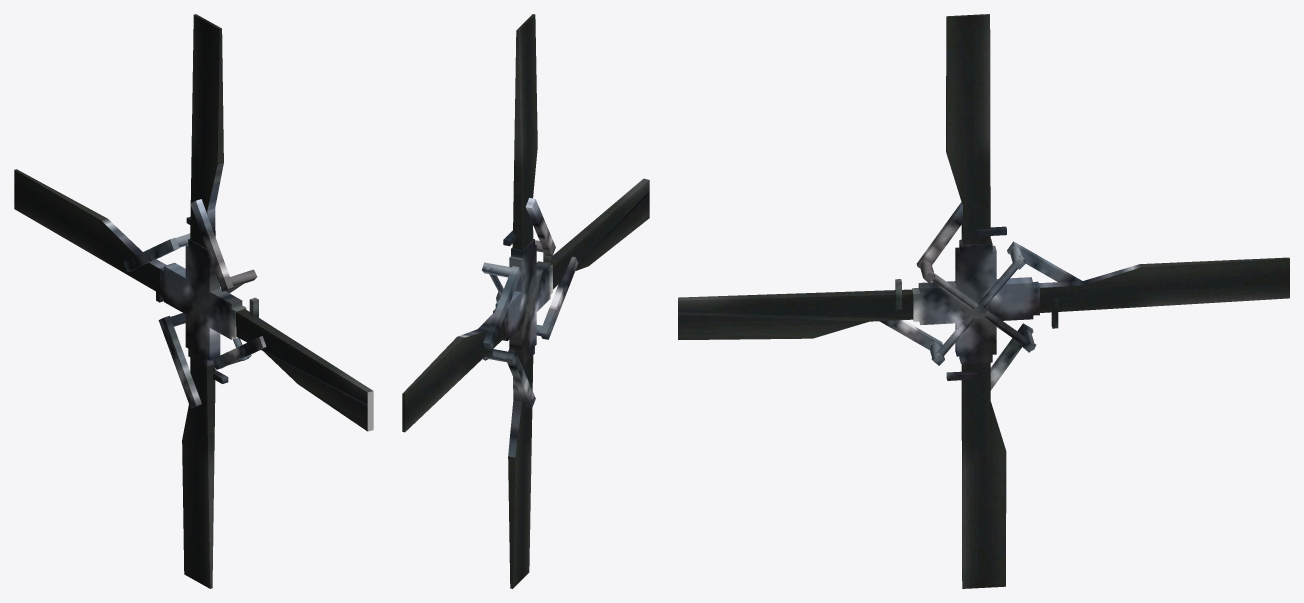
The model's file is blackhawk_propeller_small.obj.
The picture shows the model from 3 angles, left to right: view 1: azimuth 30°, elevation 25°; view 2: azimuth 150°, elevation 25°; view 3: azimuth 270°, elevation 25°; orthographic projection. The views are drawn at different scales.
Visible parts, largest first — view 1: uh60.002; view 2: uh60.002; view 3: uh60.002.
Part boxes in pixels (bbox=[...]): uh60.002: bbox=[14, 14, 373, 588]; uh60.002: bbox=[402, 14, 649, 588]; uh60.002: bbox=[678, 14, 1289, 588].
Bounding box in the file's own units: 0.2224 × 1.92 × 1.86.
